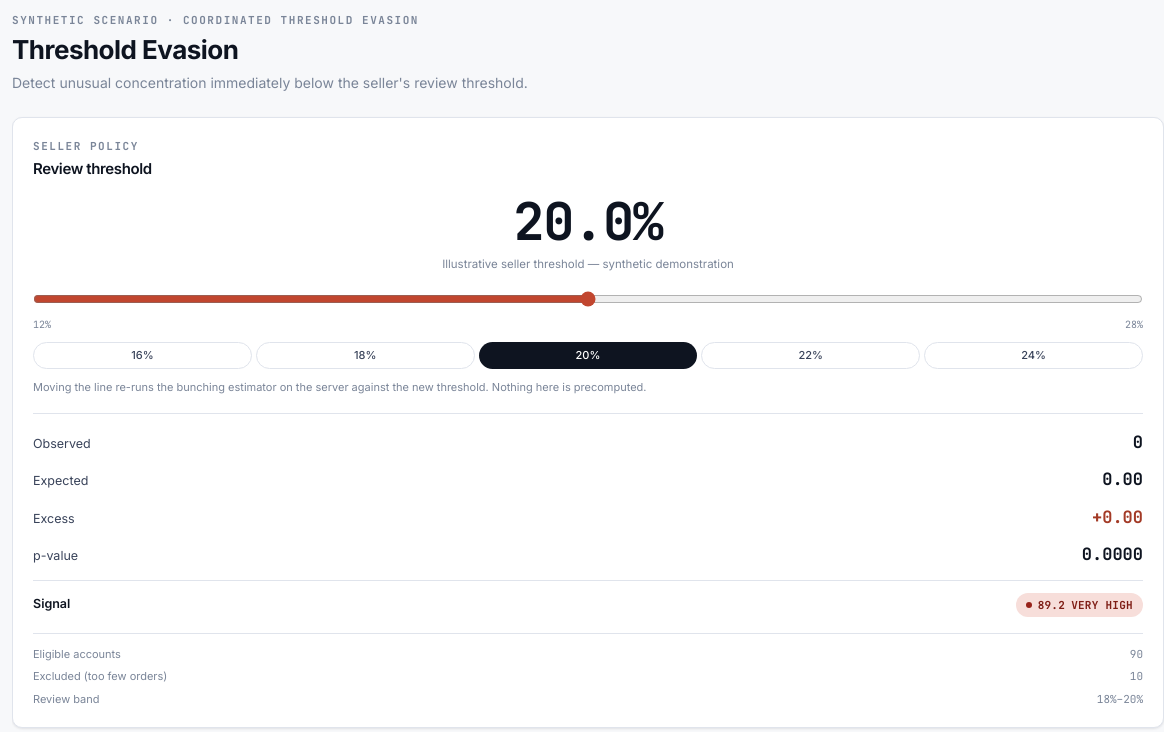
Test case: Threshold control › shows a reset-to-policy control only once overridden
The image size is (1164, 732).
Expected: the heading "Review threshold" is shown, 33,158 -> 152,180
Set the slider named "Review threshold percentage" to "24" at (862, 299), box 33,291 -> 1143,307
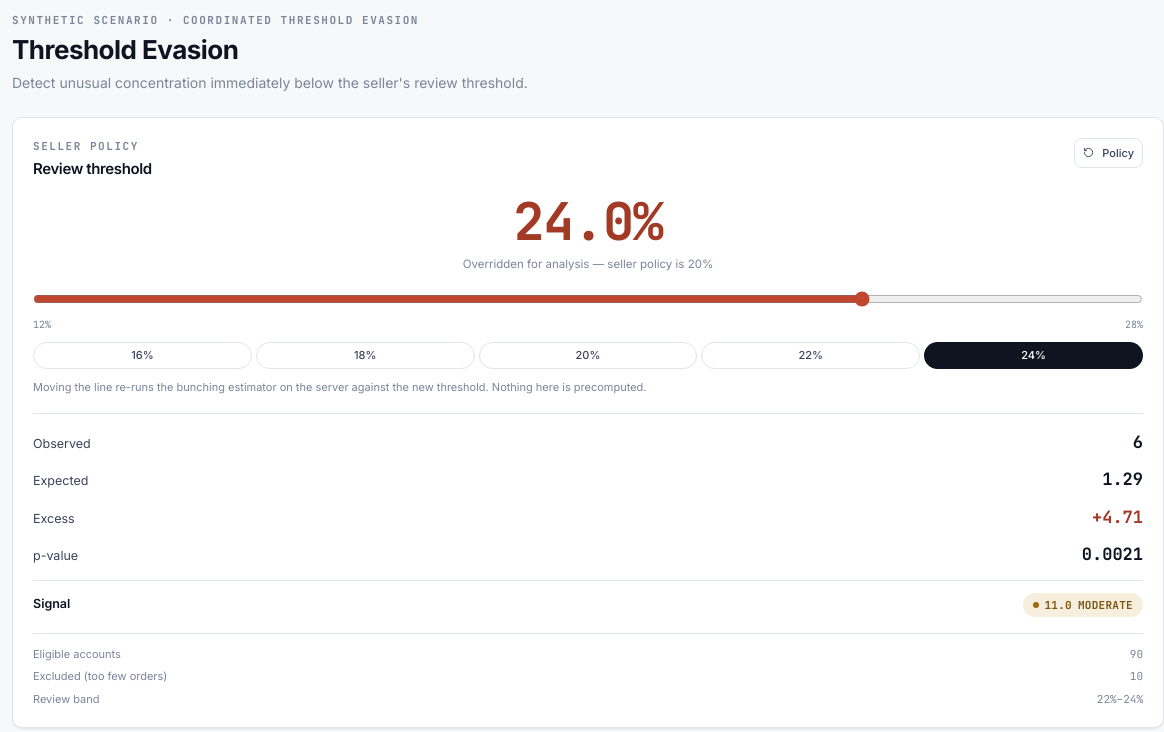
Result: the button "Policy" is shown at 1074,138 -> 1143,168
